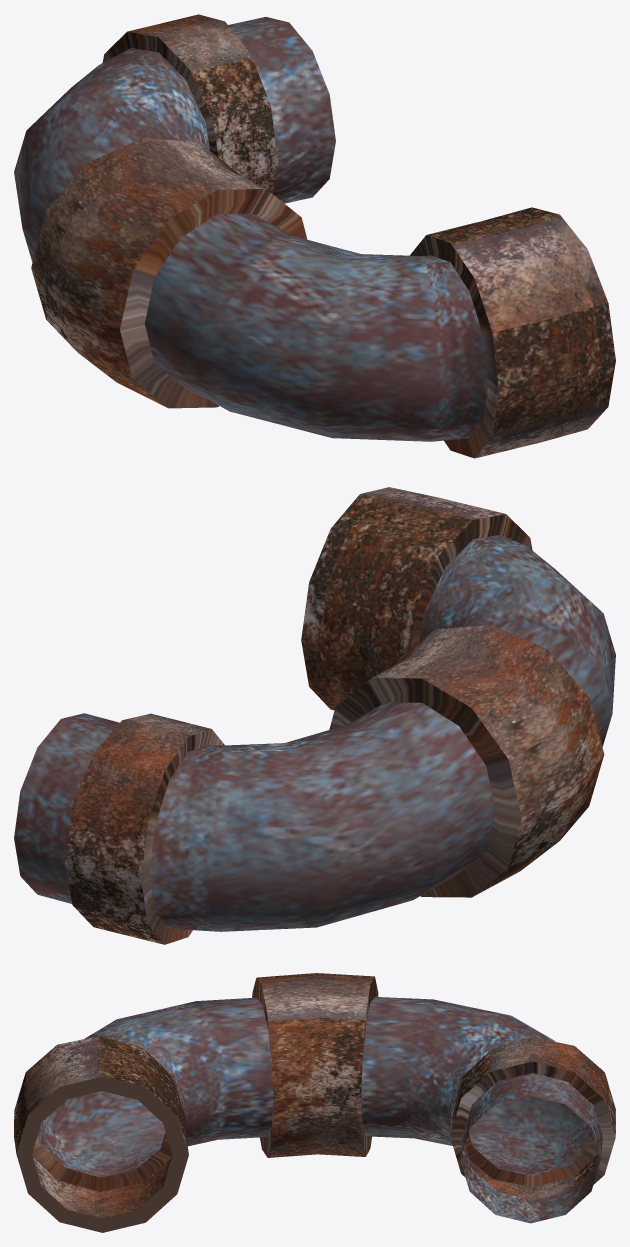
File: TPE 3_FBX.fbx
3 renders of one model, top to bottom at view 1: azimuth 30°, elevation 25°; view 2: azimuth 150°, elevation 25°; view 3: azimuth 270°, elevation 25°, orthographic. The views are drawn at different scales.
Visible parts, largest first — view 1: Tubería plataforma estática corta 1; view 2: Tubería plataforma estática corta 1; view 3: Tubería plataforma estática corta 1.
Part boxes in pixels (x1,y1,x2,y2): Tubería plataforma estática corta 1: [14, 14, 615, 458]; Tubería plataforma estática corta 1: [14, 487, 615, 944]; Tubería plataforma estática corta 1: [14, 973, 615, 1232].
Size of the model in its own units: 315 by 177 by 591.
